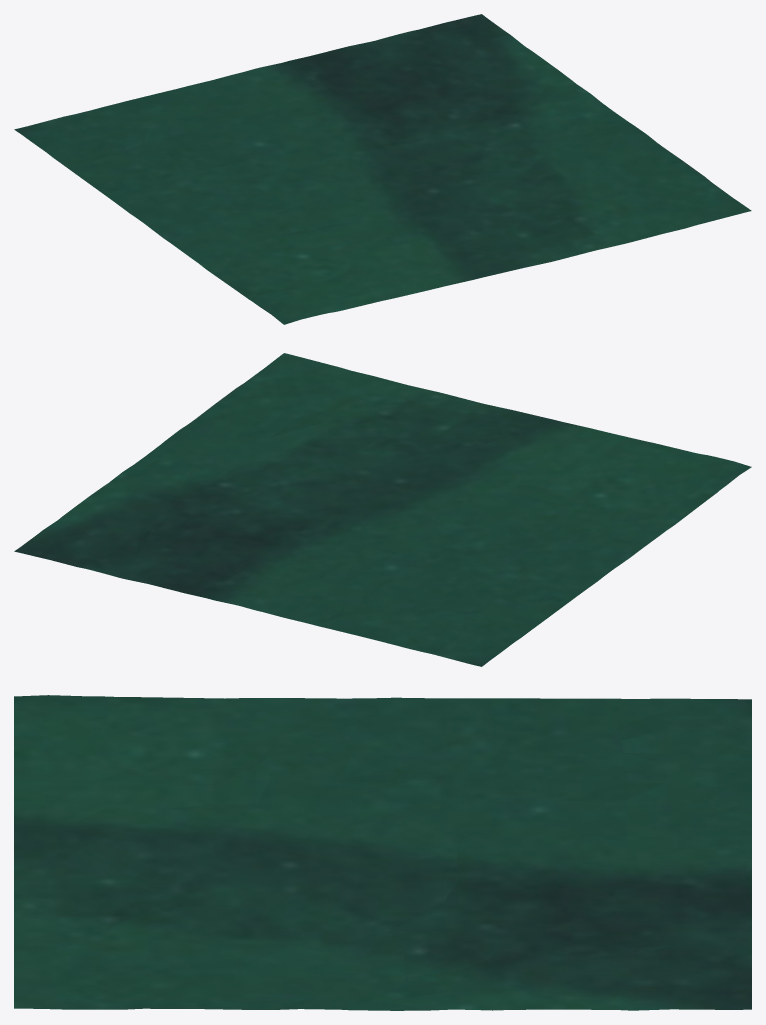
3 views of the same model, one above another, from view 1: azimuth 30°, elevation 25°; view 2: azimuth 150°, elevation 25°; view 3: azimuth 270°, elevation 25° (orthographic). The views are drawn at different scales.
Size of the model in its own units: 52.22 by 0.4992 by 52.22.
Materials: 2 (2 with a texture image).
